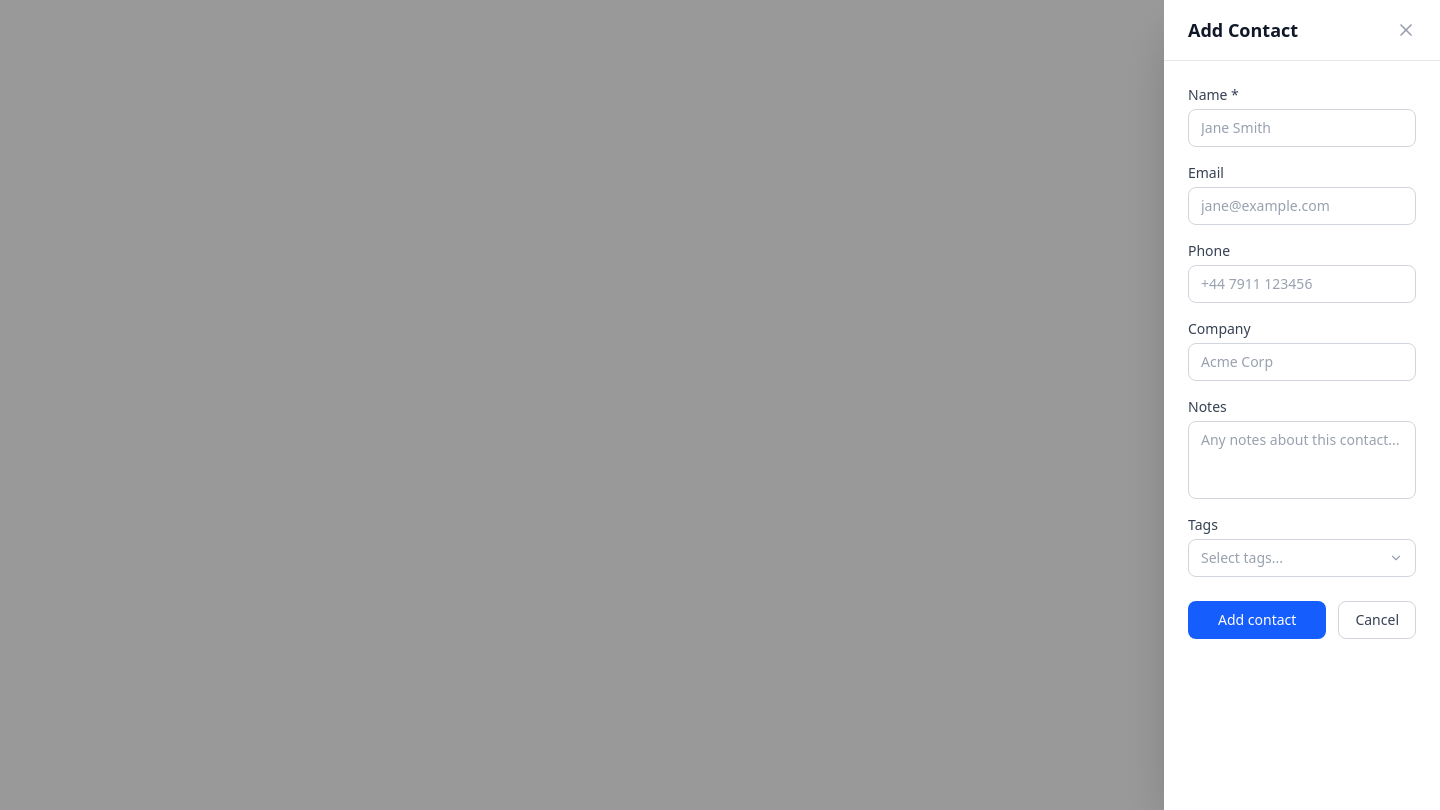
Scenario: ContactForm › prevents submission when name is empty
The width and height of the screenshot is (1440, 810).
Click the button "Add contact".
click(1257, 620)  # box [1188,601,1326,639]
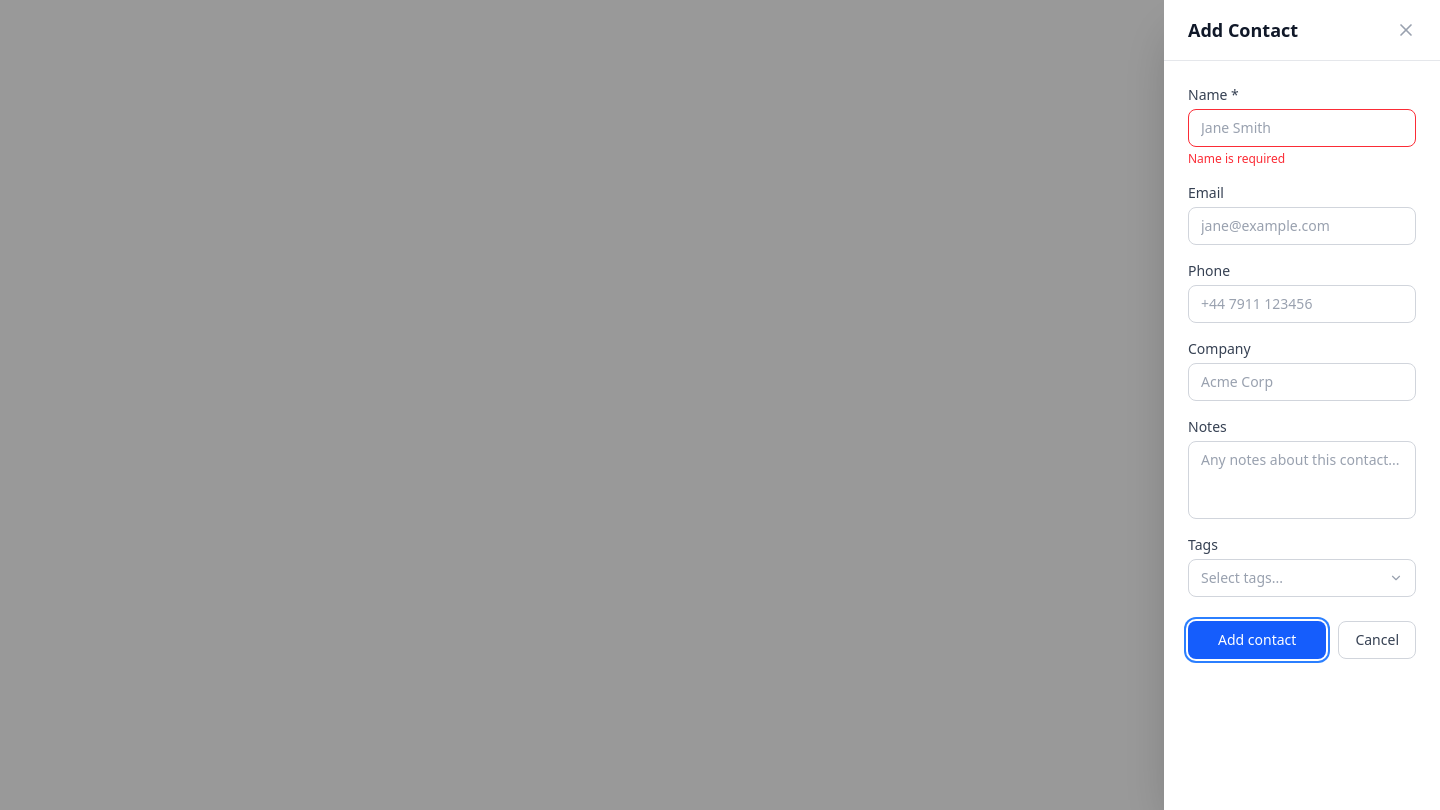
Expected: the text "Name is required" is shown, [1188,150,1285,167]
